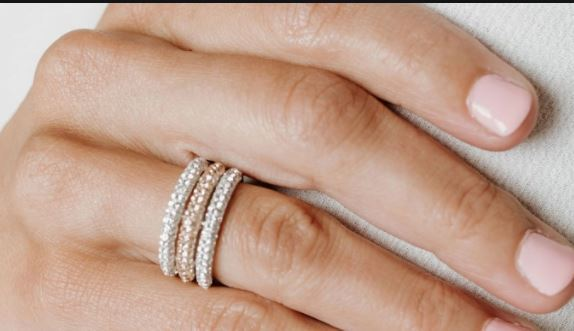Ring: (142, 144, 246, 289)
